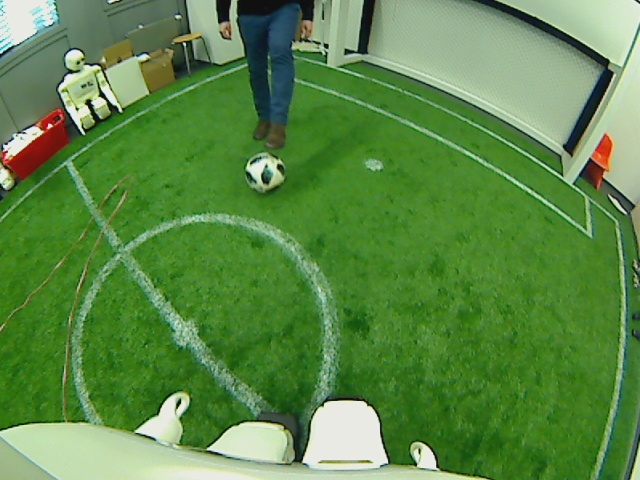ball: (244, 149, 287, 194)
